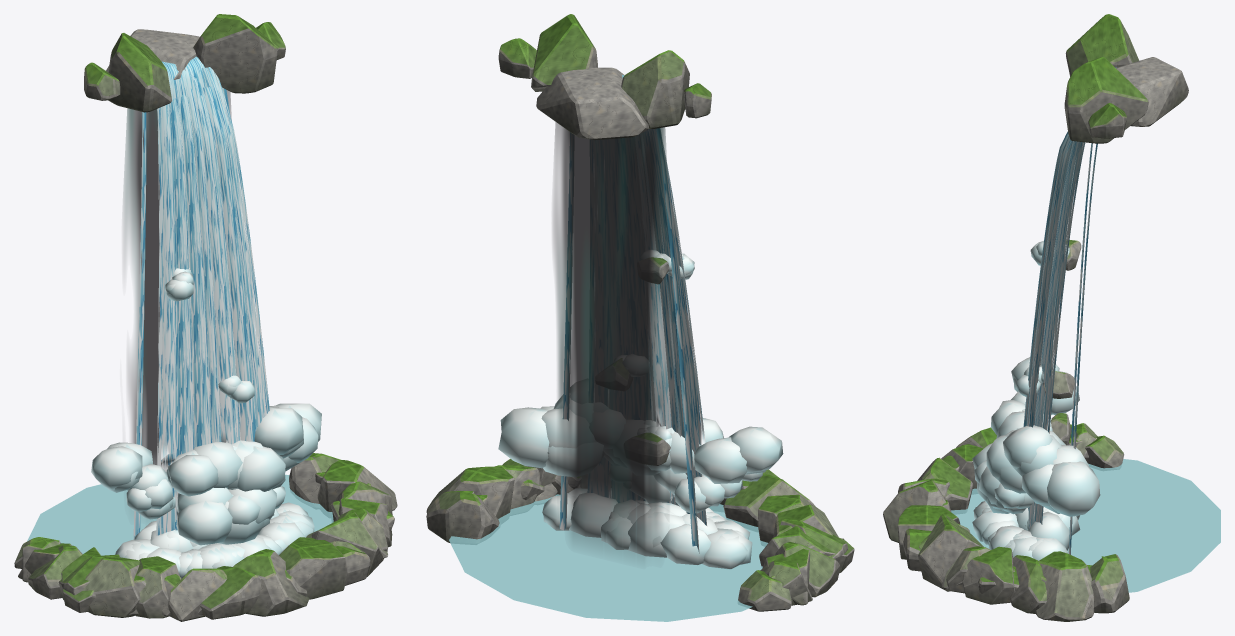
The model's file is fall_great.glb.
3 views of the same model, side by side, from view 1: azimuth 30°, elevation 25°; view 2: azimuth 150°, elevation 25°; view 3: azimuth 270°, elevation 25° (orthographic). The views are drawn at different scales.
Visible parts, largest first — view 1: fall_great_sheet, fall_great_rim, fall_great_mist, fall_great_lip, fall_great_wet, fall_great_pool, fall_great_foam; view 2: fall_great_wet, fall_great_pool, fall_great_rim, fall_great_lip, fall_great_sheet, fall_great_mist, fall_great_foam; view 3: fall_great_rim, fall_great_pool, fall_great_lip, fall_great_mist, fall_great_sheet, fall_great_foam.
Part boxes in pixels (x1,y1,x2,y2): fall_great_sheet: (133,56,269,539); fall_great_rim: (14,453,397,621); fall_great_mist: (91,271,321,545); fall_great_lip: (84,14,285,112); fall_great_wet: (123,90,231,464); fall_great_pool: (27,474,333,555); fall_great_foam: (115,267,314,578); fall_great_wet: (553,122,669,557); fall_great_pool: (449,494,768,621); fall_great_rim: (426,459,854,611); fall_great_lip: (498,14,711,465); fall_great_sheet: (559,75,706,553); fall_great_mist: (498,252,783,513); fall_great_foam: (542,250,752,568); fall_great_rim: (883,423,1129,621); fall_great_pool: (951,459,1220,592); fall_great_lip: (1043,14,1188,445); fall_great_mist: (972,241,1100,516); fall_great_sheet: (1023,67,1116,554); fall_great_foam: (972,245,1080,560).
Size of the model in its own units: 33.26 by 44.46 by 27.24.
6 materials, 5 textured.
